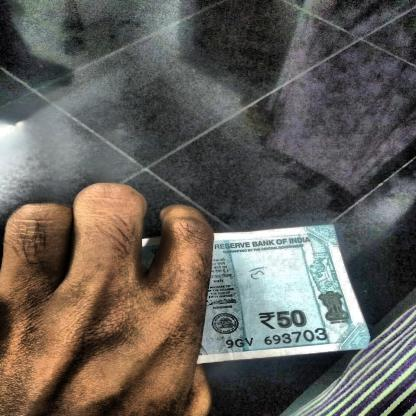Rs50: (255, 305, 315, 332)
